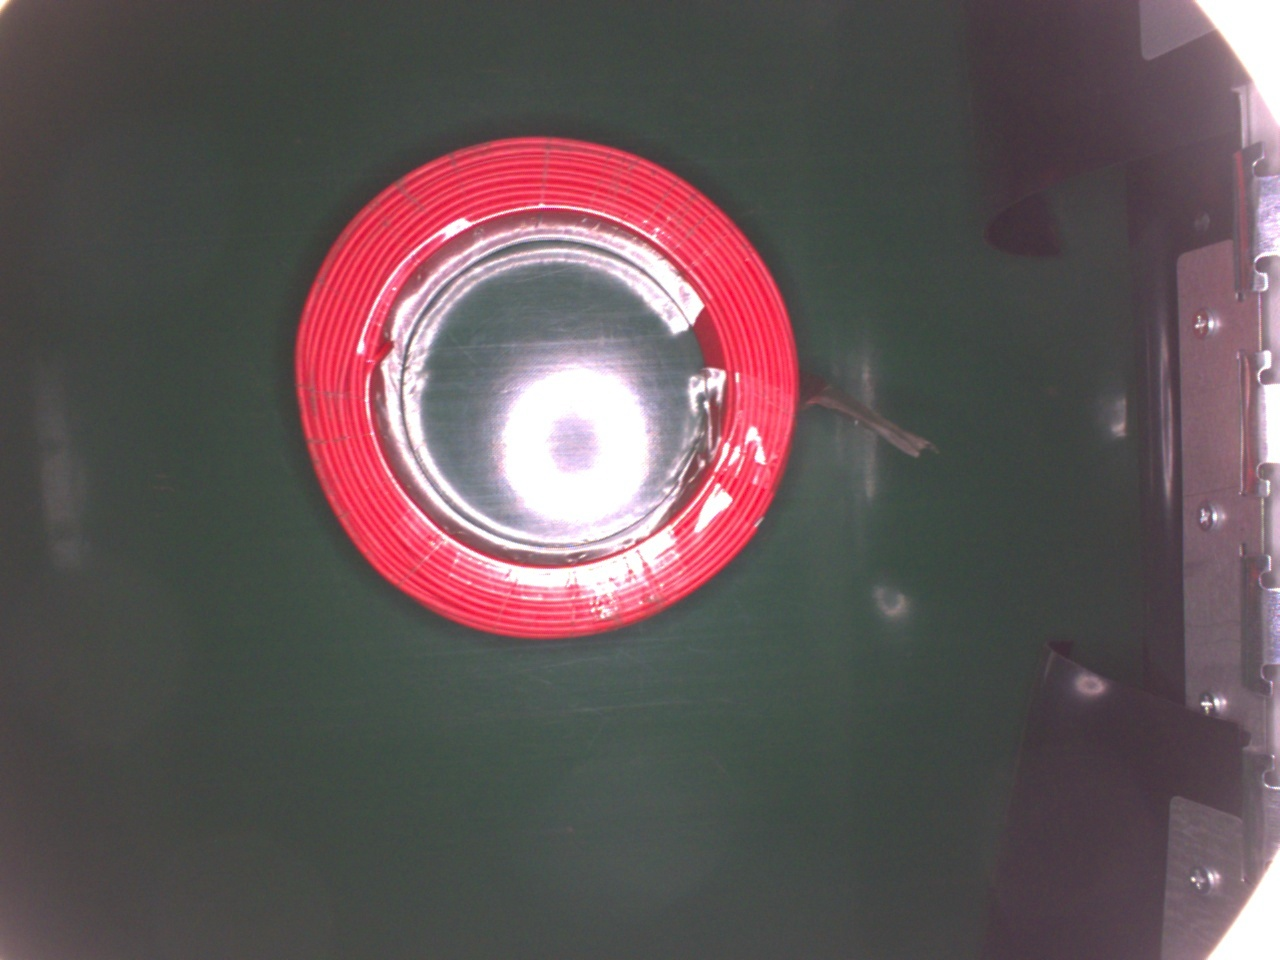red: (290, 131, 805, 642)
